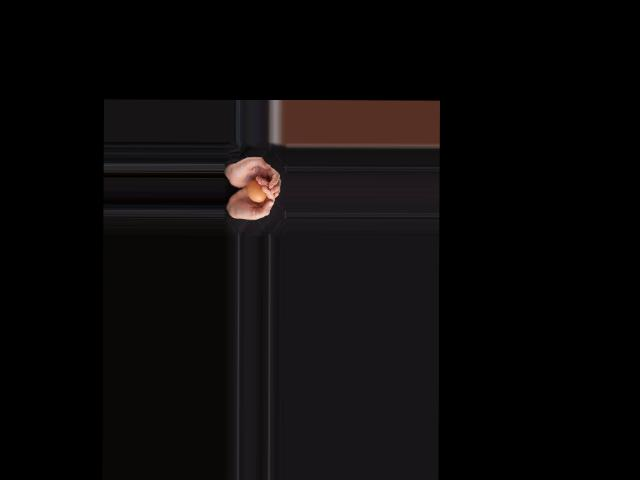egg: (246, 178, 266, 202)
